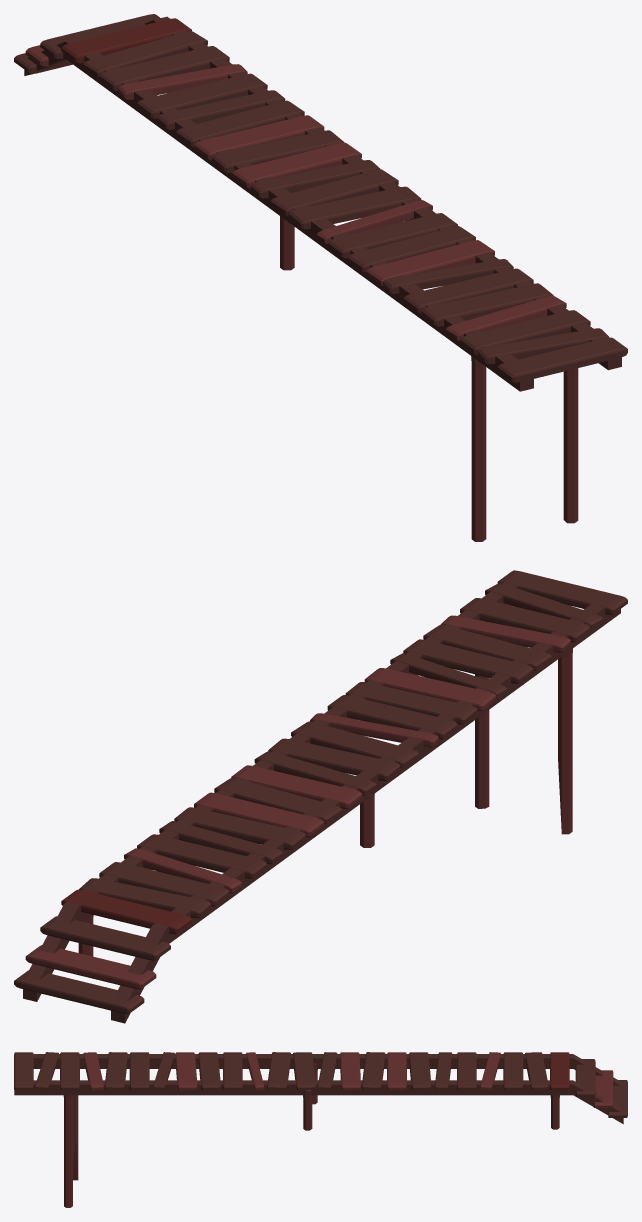
The model's file is Pier.fbx.
3 views of the same model, one above another, from view 1: azimuth 30°, elevation 25°; view 2: azimuth 150°, elevation 25°; view 3: azimuth 270°, elevation 25° (orthographic). The views are drawn at different scales.
Visible parts, largest first — view 1: Cube.032, Cylinder.002, Cube.024, Cube.030, Cylinder.003, Cube.031, Cube.011, Cube.020, Cube.003, Cube.015, Cube.022, Cube.026 (+18 smaller); view 2: Cube.032, Cube.031, Cylinder.002, Cube.033, Cube.034, Cube, Cube.019, Cube.011, Cube.035, Cube.018, Cube.022, Cube.028 (+20 smaller); view 3: Cube.031, Cube.032, Cylinder.003, Cube.003, Cube.019, Cube.013, Cube.018, Cube.026, Cube.027, Cube.015, Cube.030, Cube.020 (+21 smaller).
Part boxes in pixels (box(x1,y1,x2,y2)): Cube.032: box(24, 38, 533, 391); Cylinder.002: box(471, 356, 486, 541); Cube.024: box(497, 337, 627, 382); Cube.030: box(288, 186, 421, 229); Cylinder.003: box(563, 368, 578, 523); Cube.031: box(145, 16, 621, 370); Cube.011: box(137, 73, 267, 118); Cube.020: box(421, 283, 553, 326); Cube.003: box(99, 46, 229, 90); Cube.015: box(232, 142, 361, 188); Cube.022: box(460, 310, 590, 355); Cube.026: box(366, 240, 494, 285); Cube.032: box(111, 604, 620, 1023); Cube.031: box(23, 582, 517, 1001); Cylinder.002: box(558, 648, 572, 834); Cube.033: box(40, 916, 170, 960); Cube.034: box(25, 945, 156, 989); Cube: box(61, 889, 191, 934); Cube.019: box(403, 639, 533, 683); Cube.011: box(137, 834, 267, 878); Cube.035: box(14, 970, 144, 1013); Cube.018: box(174, 807, 306, 850); Cube.022: box(460, 598, 590, 642); Cube.028: box(327, 695, 457, 739); Cube.031: box(14, 1080, 623, 1124); Cube.032: box(33, 1054, 620, 1085); Cylinder.003: box(63, 1095, 72, 1207); Cube.003: box(503, 1052, 523, 1090); Cube.019: box(129, 1052, 149, 1090); Cube.013: box(293, 1052, 315, 1090); Cube.018: box(409, 1052, 431, 1090); Cube.026: box(175, 1052, 197, 1090); Cube.027: box(198, 1052, 220, 1090); Cube.015: box(340, 1052, 360, 1090); Cube.030: box(267, 1052, 290, 1090); Cube.020: box(105, 1052, 127, 1090).
Size of the model in its own units: 324 by 533 by 2378.
